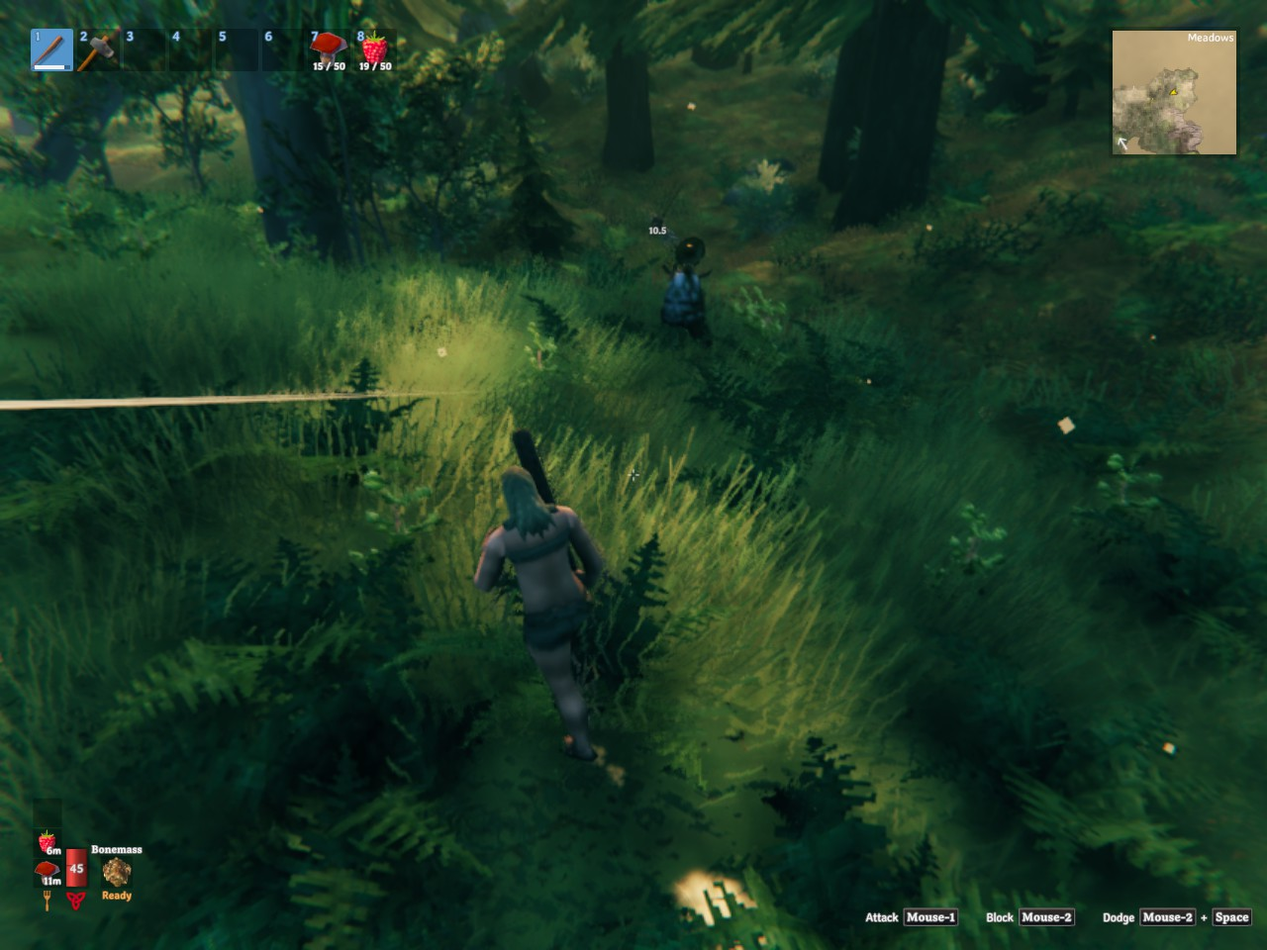Greydwarf: (661, 270, 703, 325)
Skeleton: (651, 218, 678, 249)
